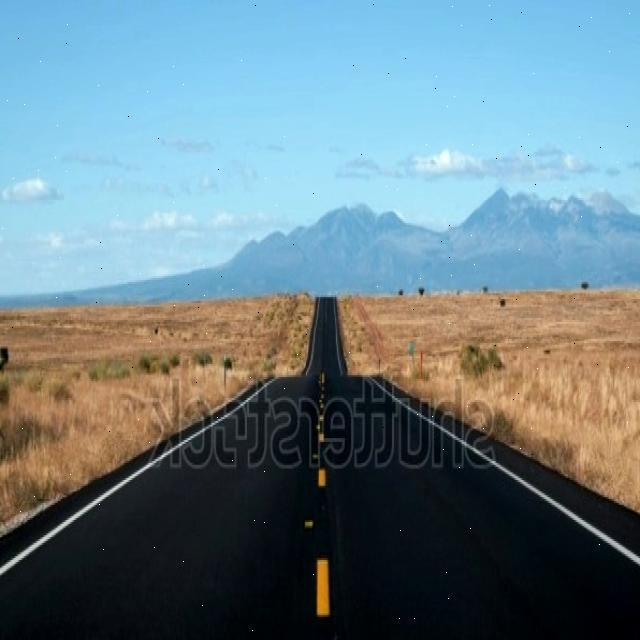lane: (318, 558, 330, 615), (319, 467, 326, 486), (305, 518, 314, 528)
road: (1, 297, 640, 636)
